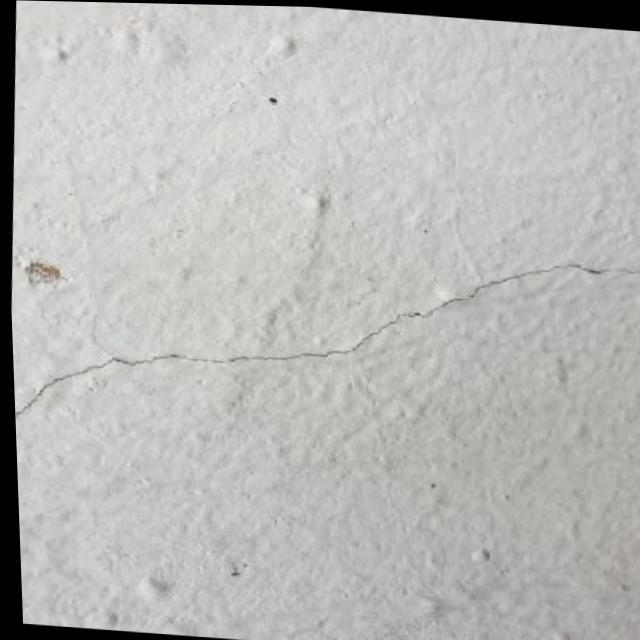Crack: (65, 256, 634, 385)
